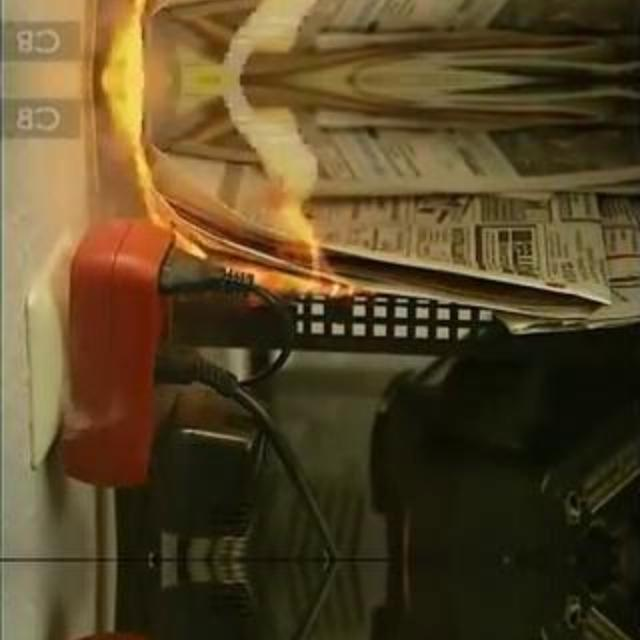smoke: (89, 0, 362, 307)
